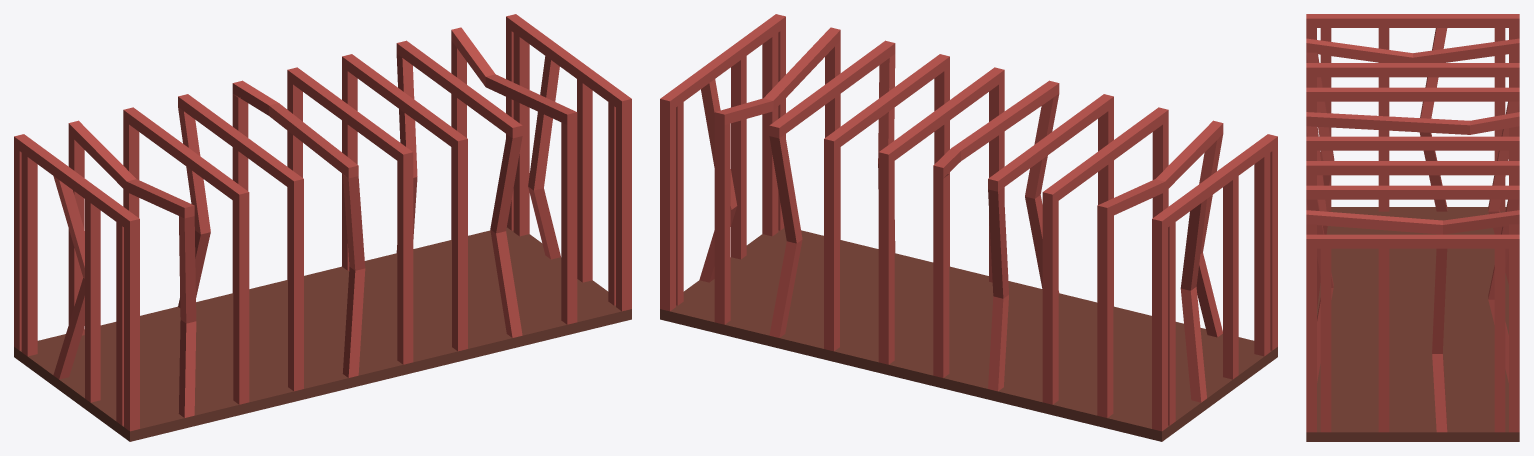
File: Cage_5_Red.fbx
3 views of the same model, side by side, from view 1: azimuth 30°, elevation 25°; view 2: azimuth 150°, elevation 25°; view 3: azimuth 270°, elevation 25° (orthographic). The views are drawn at different scales.
Parts seen in each view (by area): view 1: Cage_5_Red_Part_2, Cage_5_Red_Part_1; view 2: Cage_5_Red_Part_2, Cage_5_Red_Part_1; view 3: Cage_5_Red_Part_2, Cage_5_Red_Part_1.
Boxes of the visible parts, <box> form: Cage_5_Red_Part_2: <box>14,14,631,431</box>; Cage_5_Red_Part_1: <box>14,227,631,441</box>; Cage_5_Red_Part_2: <box>660,14,1277,431</box>; Cage_5_Red_Part_1: <box>660,228,1277,441</box>; Cage_5_Red_Part_2: <box>1306,14,1519,432</box>; Cage_5_Red_Part_1: <box>1306,207,1519,441</box>.
Size of the model in its own units: 500 by 210 by 200.
